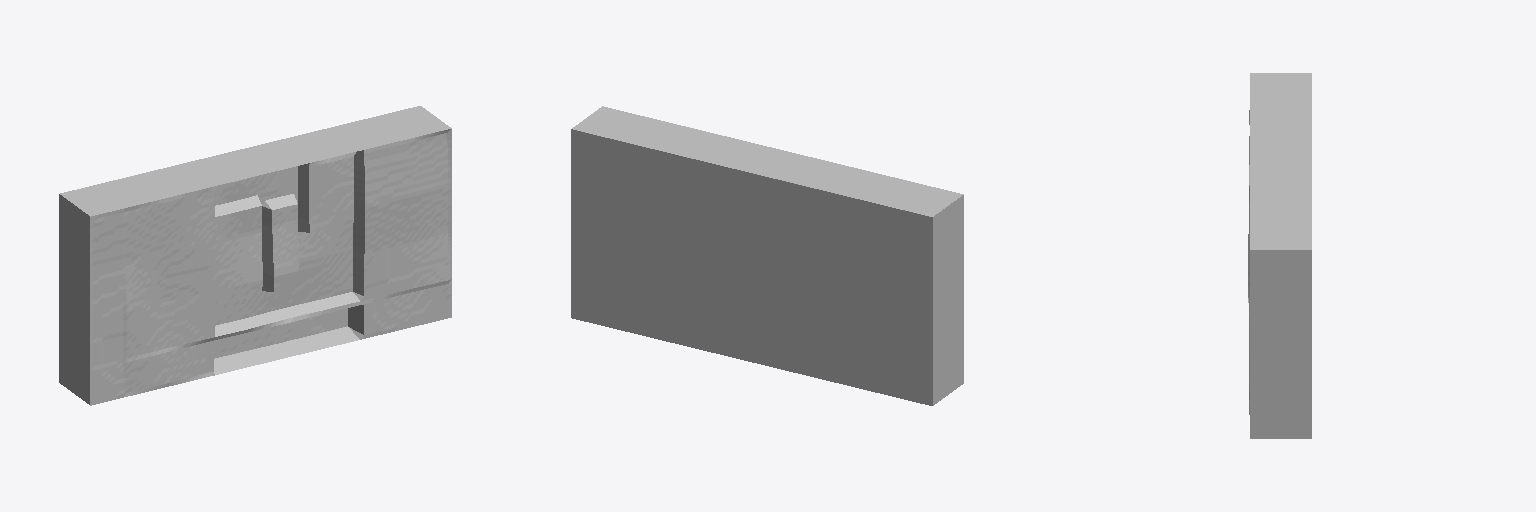
Rendered from rectangular_prism_bumps_1_9.obj.
The picture shows the model from 3 angles: view 1: azimuth 30°, elevation 25°; view 2: azimuth 150°, elevation 25°; view 3: azimuth 270°, elevation 25°; orthographic projection.
Size of the model in its own units: 10 by 5 by 1.54.